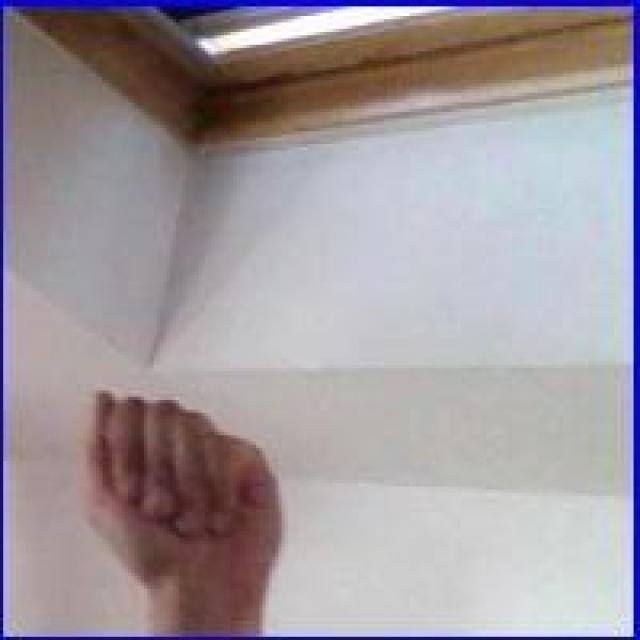A: (75, 384, 293, 611)
